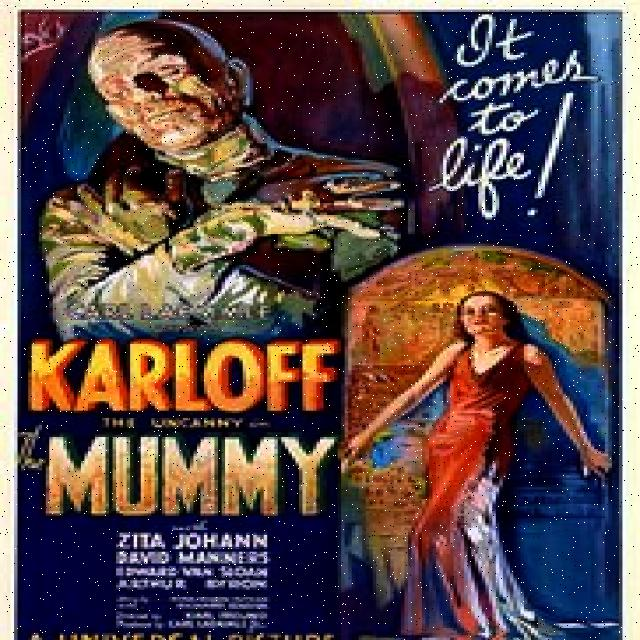movie-judul: (18, 324, 340, 524)
picture: (22, 12, 384, 324), (355, 294, 616, 637)
